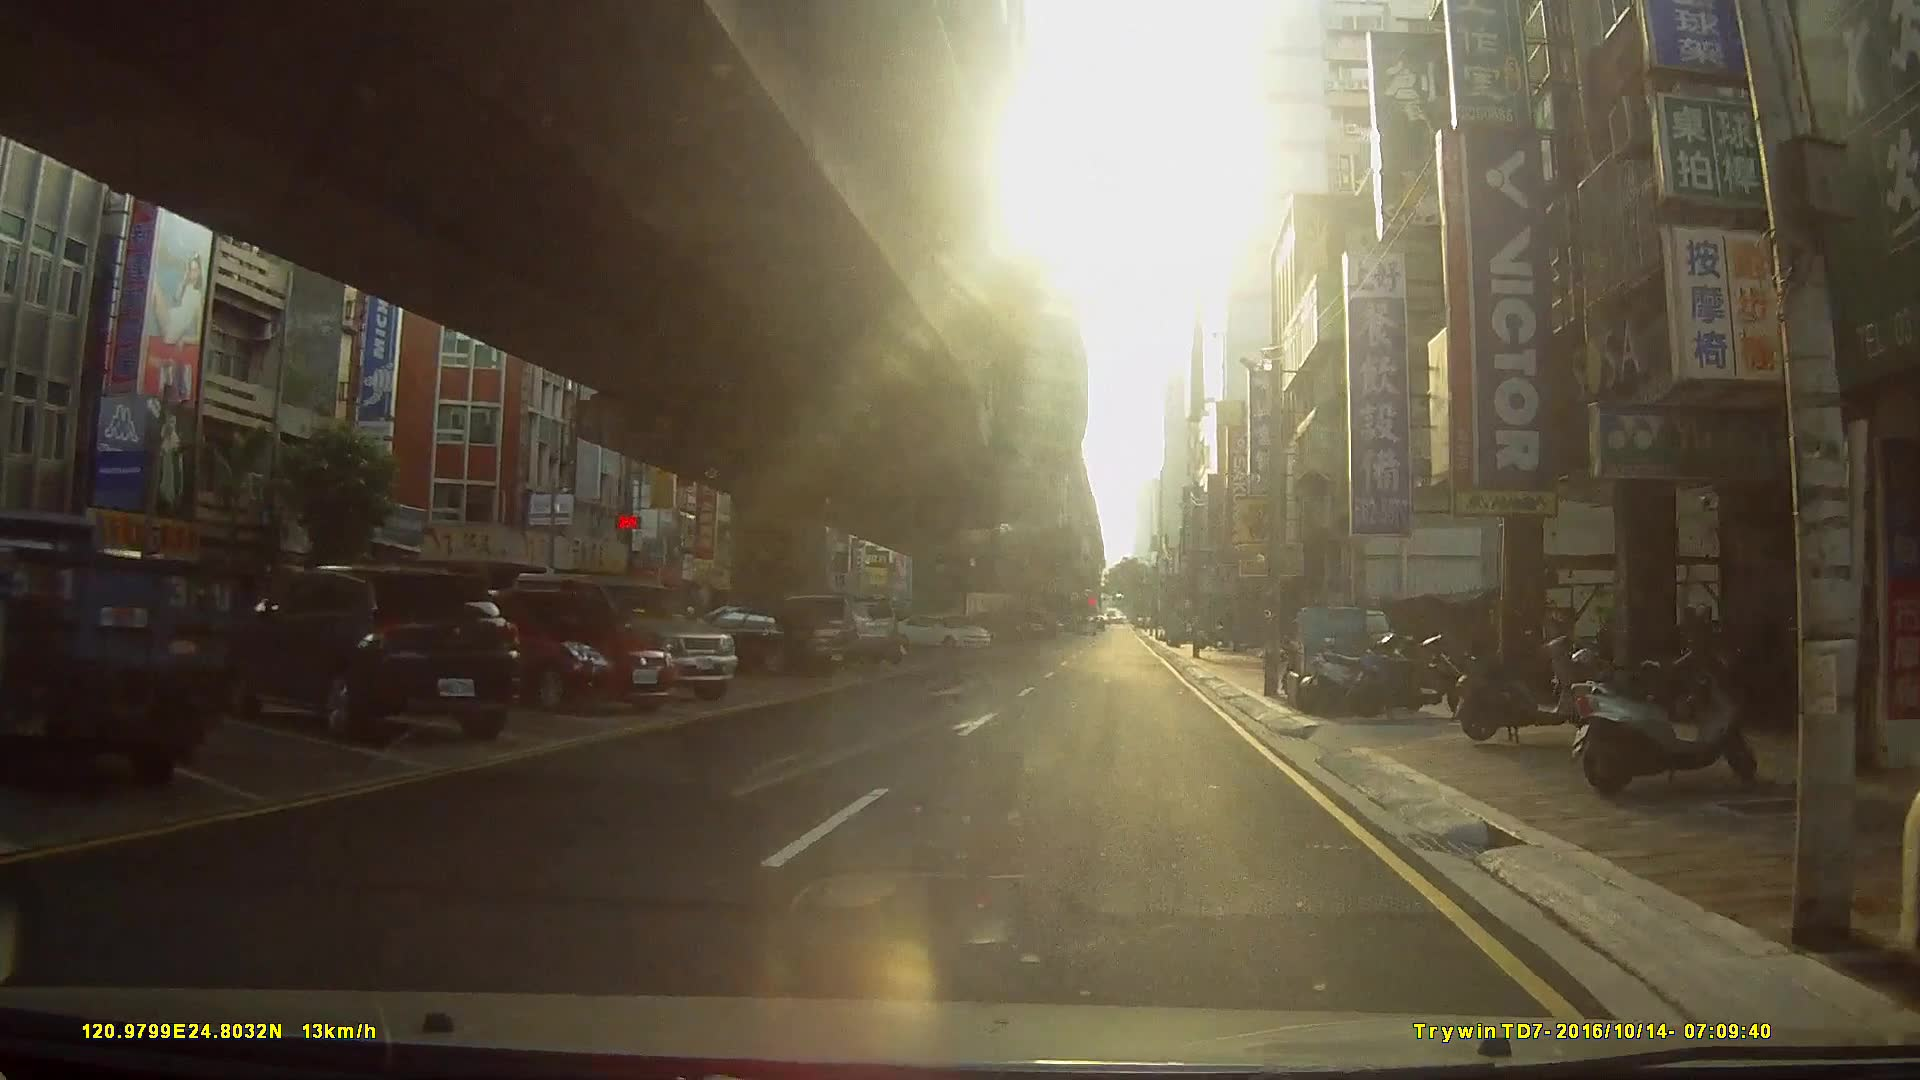vehicle: (0, 506, 245, 789), (229, 567, 516, 742), (506, 568, 738, 704), (462, 583, 678, 713), (673, 603, 848, 675), (753, 592, 901, 669), (894, 613, 992, 654)
